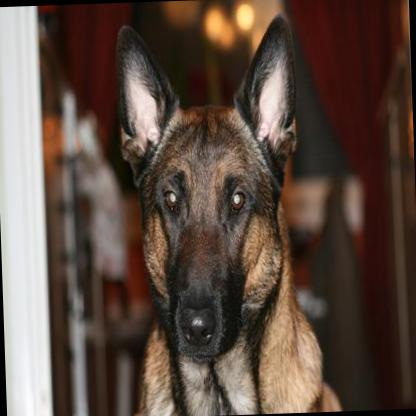malinois: (107, 0, 347, 416)
